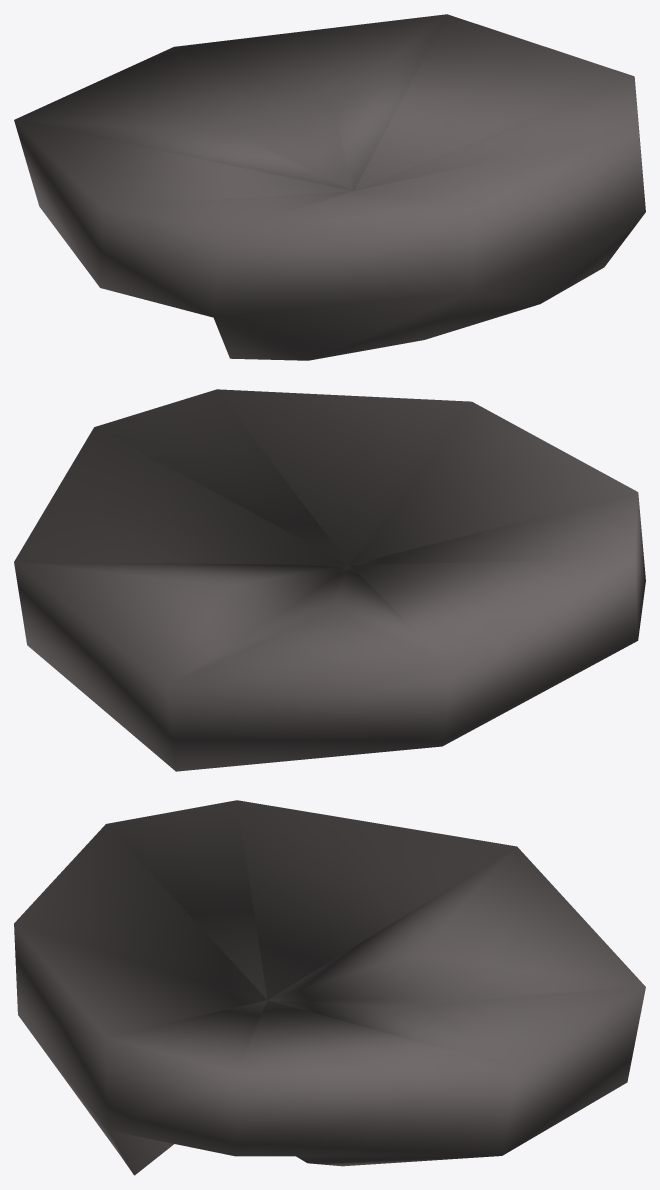
Rendered from MnhrNeck_Ground.fbx.
3 renders of one model, top to bottom at view 1: azimuth 30°, elevation 25°; view 2: azimuth 150°, elevation 25°; view 3: azimuth 270°, elevation 25°, orthographic. The views are drawn at different scales.
Visible parts, largest first — view 1: Necc.003; view 2: Necc.003; view 3: Necc.003.
Part boxes in pixels (x1,y1,x2,y2): Necc.003: (14, 14, 645, 360); Necc.003: (14, 389, 645, 771); Necc.003: (14, 800, 645, 1175).
Size of the model in its own units: 0.2006 by 0.0719 by 0.2063.
